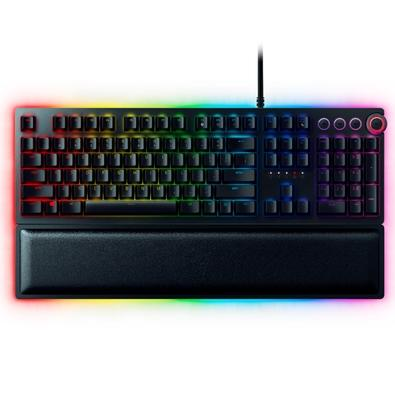keyboard: (14, 104, 388, 301)
